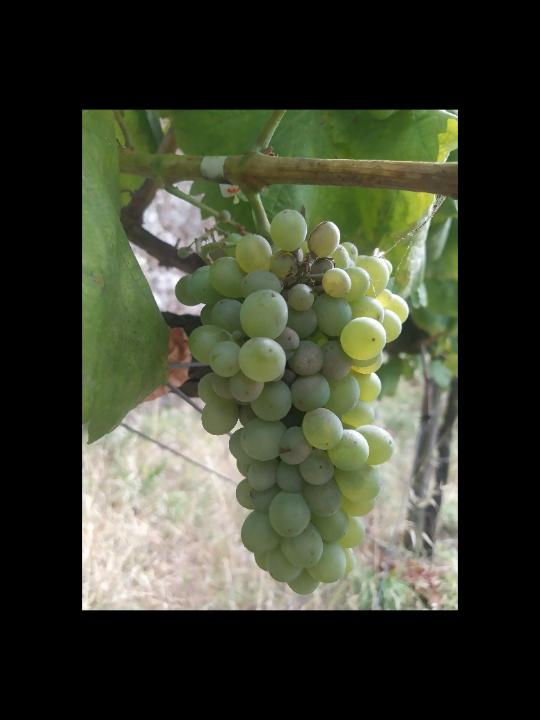grape: (173, 204, 416, 595)
